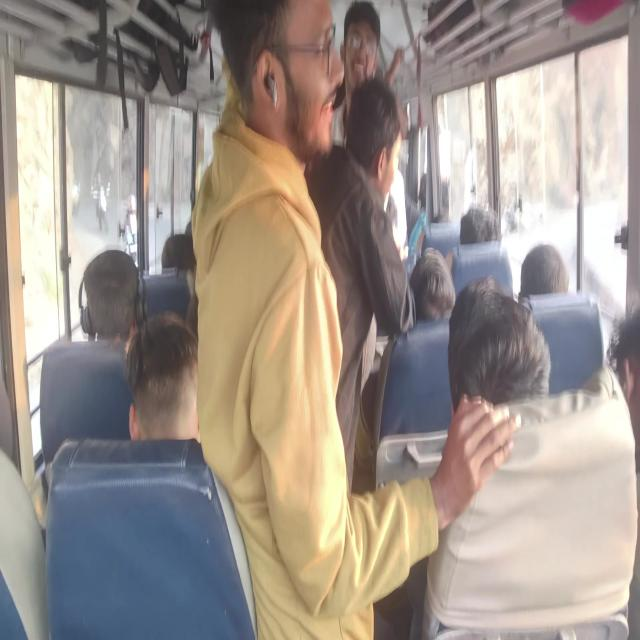person: (228, 4, 376, 182), (462, 290, 582, 449), (84, 260, 175, 385), (524, 236, 612, 350), (132, 336, 218, 444), (597, 312, 640, 500), (353, 75, 410, 202), (329, 0, 395, 87), (409, 256, 463, 336), (0, 384, 32, 502), (153, 216, 194, 285), (459, 204, 511, 256), (414, 174, 462, 222)
